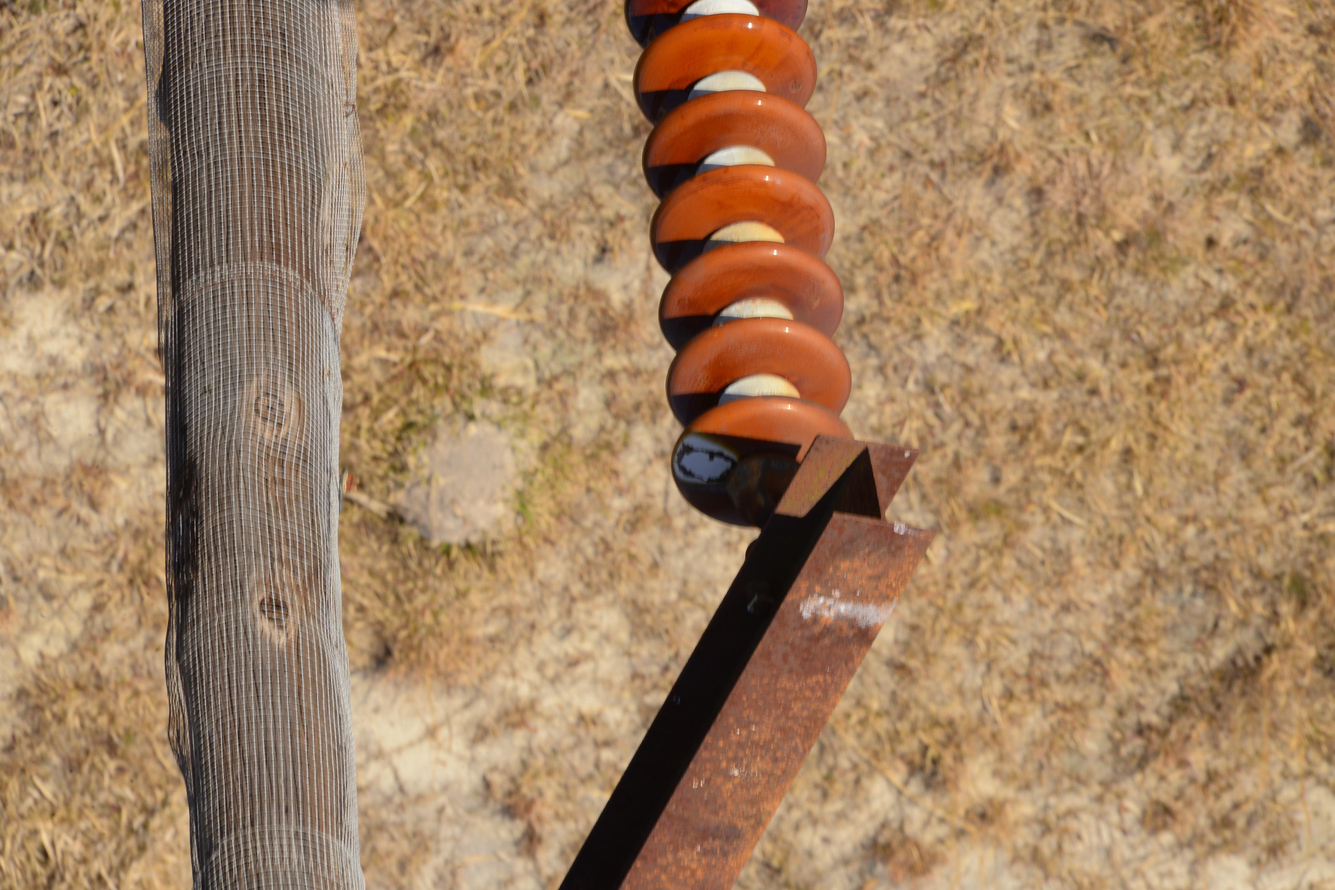Flashover: (672, 436, 739, 487)
insulator: (621, 0, 852, 526)
